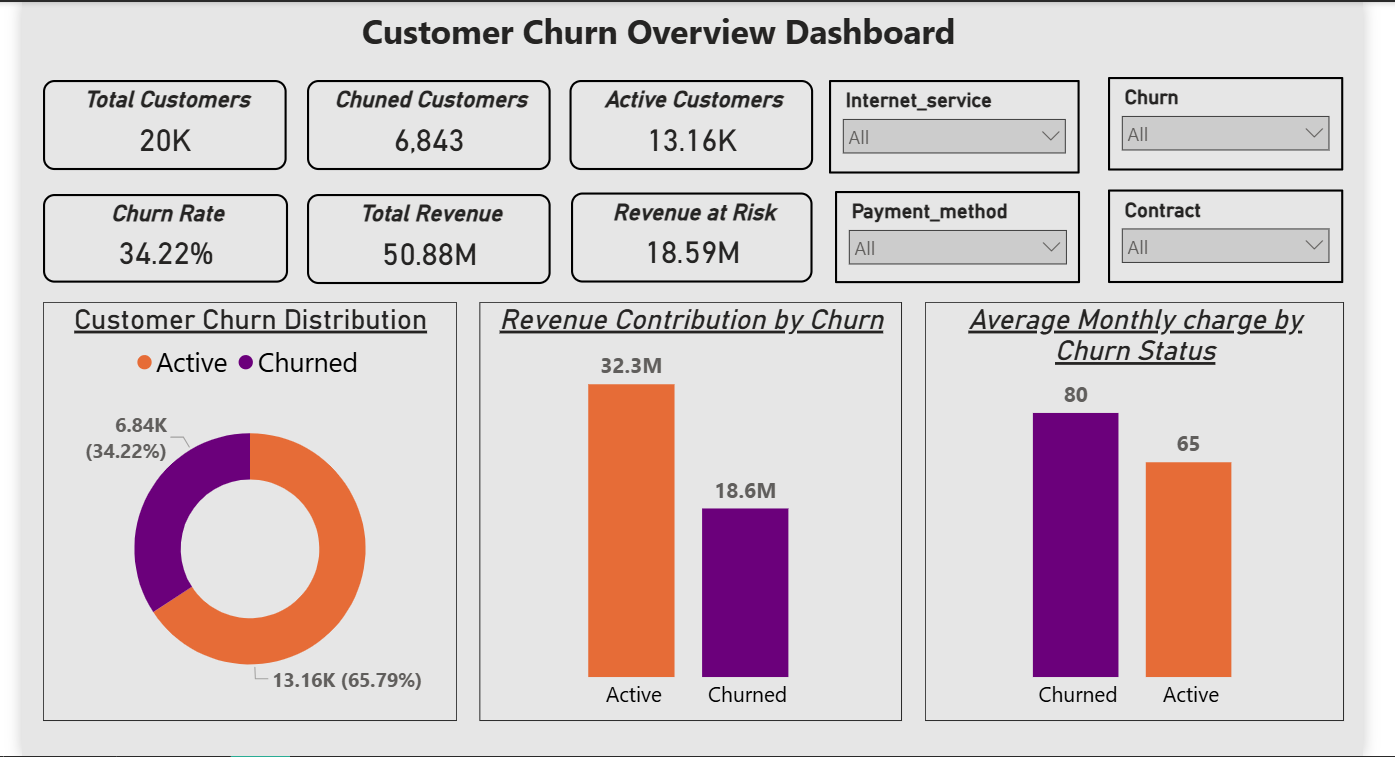

Layout of this report page (visuals, bound fields, positions):
{"tool":"powerbi","page":{"name":"Page 1","canvas":[1280,720],"ordinal":0},"visuals":[{"type":"card","title":"Total Customers","fields":{"Values":["Measures Coulmn.Total Customers"]},"box":[19.5,74.8,232.6,86.2],"z":0},{"type":"card","title":"Churn Rate","fields":{"Values":["Measures Coulmn.Churn Rate"]},"box":[19.5,183.8,234.2,84.6],"z":1000},{"type":"card","title":"Active Customers","fields":{"Values":["Measures Coulmn.Active Customers"]},"box":[522.1,74.8,232.6,86.2],"z":2000},{"type":"card","title":"Chuned Customers","fields":{"Values":["Measures Coulmn.Churned Customers"]},"box":[271.6,74.8,232.6,86.2],"z":3000},{"type":"card","title":"Total Revenue","fields":{"Values":["Measures Coulmn.Total Revenue"]},"box":[271.6,183.8,232.6,86.2],"z":4000},{"type":"card","title":"Revenue at Risk","fields":{"Values":["Measures Coulmn.Revenue lost due to churn"]},"box":[523.7,182.2,231,86.2],"z":5000},{"type":"slicer","fields":{"Values":["customer_churn_dataset.contract"]},"box":[1037.7,178.9,224.5,89.5],"z":6000},{"type":"slicer","fields":{"Values":["customer_churn_dataset.payment_method"]},"box":[775.9,180.5,234.2,87.8],"z":7000},{"type":"slicer","fields":{"Values":["customer_churn_dataset.internet_service"]},"box":[771,74.8,239.1,89.5],"z":8000},{"type":"slicer","fields":{"Values":["customer_churn_dataset.churn"]},"box":[1037.7,71.6,224.5,89.5],"z":9000},{"type":"donutChart","title":"Customer Churn Distribution","fields":{"Category":["customer_churn_dataset.Churn"],"Y":["CountNonNull(customer_churn_dataset.customer_id)"]},"box":[19.5,286.3,395.3,400.1],"z":10000},{"type":"columnChart","title":"Revenue Contribution by Churn","fields":{"Category":["customer_churn_dataset.Churn"],"Y":["Sum(customer_churn_dataset.total_charges)"]},"box":[437.5,286.3,403.4,400.1],"z":11000},{"type":"columnChart","title":"Average Monthly charge by Churn Status","fields":{"Category":["customer_churn_dataset.Churn"],"Y":["Measures Coulmn.Average monthly charge"]},"box":[862.1,286.3,400.1,400.1],"z":12000},{"type":"textbox","box":[318.8,0,619.7,71.6],"z":13000}]}

Visuals, with their boxes in screenshot pixels (x1, y1, x2, y2):
"Total Customers" card: Rect(46, 77, 286, 167)
"Churn Rate" card: Rect(46, 190, 288, 278)
"Active Customers" card: Rect(566, 77, 807, 167)
"Chuned Customers" card: Rect(307, 77, 547, 167)
"Total Revenue" card: Rect(307, 190, 547, 279)
"Revenue at Risk" card: Rect(567, 189, 807, 278)
slicer - customer_churn_dataset.contract: Rect(1099, 185, 1332, 278)
slicer - customer_churn_dataset.payment_method: Rect(828, 187, 1071, 278)
slicer - customer_churn_dataset.internet_service: Rect(823, 77, 1071, 170)
slicer - customer_churn_dataset.churn: Rect(1099, 74, 1332, 167)
"Customer Churn Distribution" donutChart: Rect(46, 296, 455, 710)
"Revenue Contribution by Churn" columnChart: Rect(478, 296, 896, 710)
"Average Monthly charge by Churn Status" columnChart: Rect(918, 296, 1332, 710)
textbox: Rect(355, 0, 997, 74)
